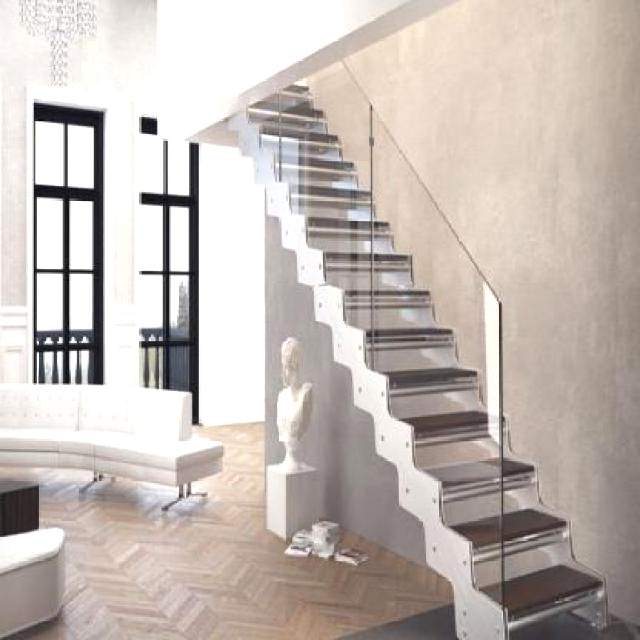stair: (231, 72, 618, 639)
